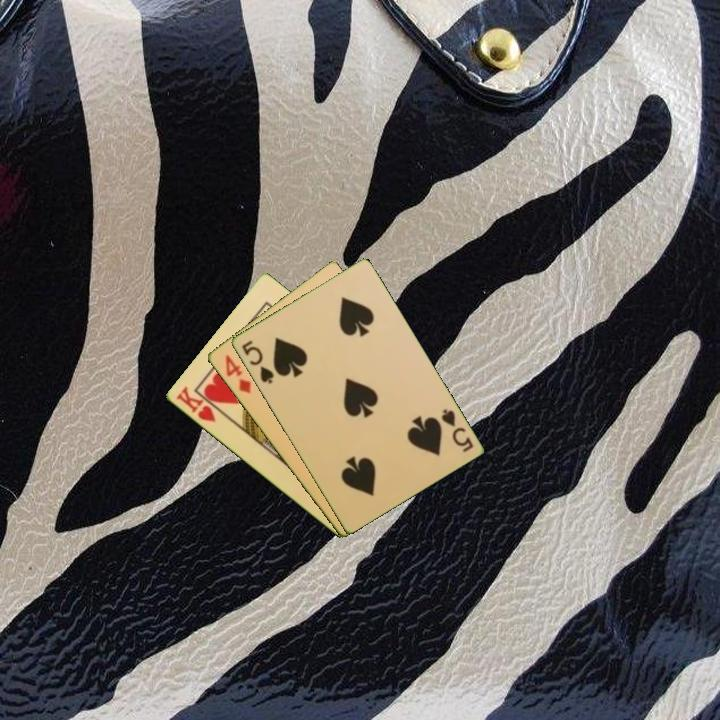4d: (221, 351, 254, 396)
5s: (437, 405, 476, 455), (238, 337, 276, 387)
Kh: (172, 383, 226, 425)
